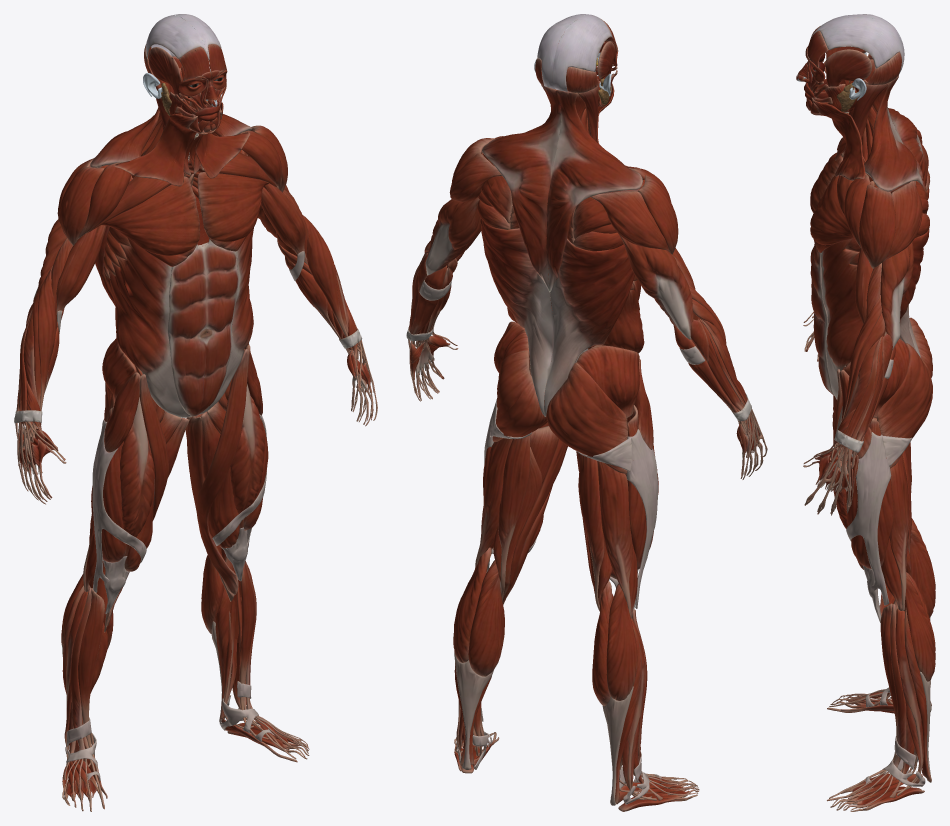
Rendered from core-lite.glb.
The picture shows the model from 3 angles, left to right: view 1: azimuth 30°, elevation 25°; view 2: azimuth 150°, elevation 25°; view 3: azimuth 270°, elevation 25°; orthographic projection. The views are drawn at different scales.
Visible parts, largest first — view 1: Rectus_Abdominis_m, External_Oblique_r, Pectoralis_Major_Sternocostalis__r, Sartorius_l, Pectoralis_Major_Sternocostalis__l, Rectus_Femoris_r, Rectus_Femoris_l, Platysma_r, External_Oblique_l, Iliotibial_Tract_IT_Band__r, Biceps_Brachii_r, Tibialis_Anterior_r (+37 smaller); view 2: Latissimus_Dorsi_r, Trapezius_r, Trapezius_l, Latissimus_Dorsi_l, Gluteus_Maximus_r, Triceps_Brachii_r, Biceps_Femoris_Long_Head__r, Gluteus_Maximus_l, Gastrocnemius_Lateral_Head_l, Gluteus_Medius_r, Gastrocnemius_Medial_Head_r, Triceps_Brachii_l (+32 smaller); view 3: External_Oblique_l, Iliotibial_Tract_IT_Band__l, Trapezius_l, Gluteus_Maximus_l, Epicranial_Aponeurosis_001_l, Deltoid_Middle_l, Triceps_Brachii_l, Biceps_Femoris_Long_Head__l, Vastus_Lateralis_l, Gastrocnemius_Medial_Head_l, Platysma_l, Pectoralis_Major_Sternocostalis__l (+46 smaller).
Part boxes in pixels (<box>): Rectus_Abdominis_m: <box>167,239,238,416</box>; External_Oblique_r: <box>104,237,202,417</box>; Pectoralis_Major_Sternocostalis__r: <box>101,176,200,255</box>; Sartorius_l: <box>196,349,249,594</box>; Pectoralis_Major_Sternocostalis__l: <box>197,172,268,241</box>; Rectus_Femoris_r: <box>120,397,154,556</box>; Rectus_Femoris_l: <box>230,384,264,528</box>; Platysma_r: <box>114,113,207,186</box>; External_Oblique_l: <box>199,228,253,414</box>; Iliotibial_Tract_IT_Band__r: <box>92,422,146,592</box>; Biceps_Brachii_r: <box>56,225,106,321</box>; Tibialis_Anterior_r: <box>78,588,104,778</box>; Latissimus_Dorsi_r: <box>544,239,634,416</box>; Trapezius_r: <box>546,90,642,292</box>; Trapezius_l: <box>482,85,561,292</box>; Latissimus_Dorsi_l: <box>480,219,553,416</box>; Gluteus_Maximus_r: <box>546,362,627,473</box>; Triceps_Brachii_r: <box>619,235,693,339</box>; Biceps_Femoris_Long_Head__r: <box>597,461,632,615</box>; Gluteus_Maximus_l: <box>492,350,546,441</box>; Gastrocnemius_Lateral_Head_l: <box>468,560,504,676</box>; Gluteus_Medius_r: <box>576,346,639,418</box>; Gastrocnemius_Medial_Head_r: <box>606,583,637,700</box>; Triceps_Brachii_l: <box>425,197,481,275</box>; External_Oblique_l: <box>821,238,863,399</box>; Iliotibial_Tract_IT_Band__l: <box>846,432,891,605</box>; Trapezius_l: <box>864,75,927,196</box>; Gluteus_Maximus_l: <box>877,343,932,468</box>; Epicranial_Aponeurosis_001_l: <box>811,17,904,75</box>; Deltoid_Middle_l: <box>859,184,895,268</box>; Triceps_Brachii_l: <box>880,241,913,350</box>; Biceps_Femoris_Long_Head__l: <box>889,454,909,610</box>; Vastus_Lateralis_l: <box>846,419,893,568</box>; Gastrocnemius_Medial_Head_l: <box>905,576,935,681</box>; Platysma_l: <box>810,97,865,180</box>; Pectoralis_Major_Sternocostalis__l: <box>810,175,853,245</box>.
Size of the model in its own units: 0.8516 by 1.79 by 0.3051.
5 materials, 5 textured.
